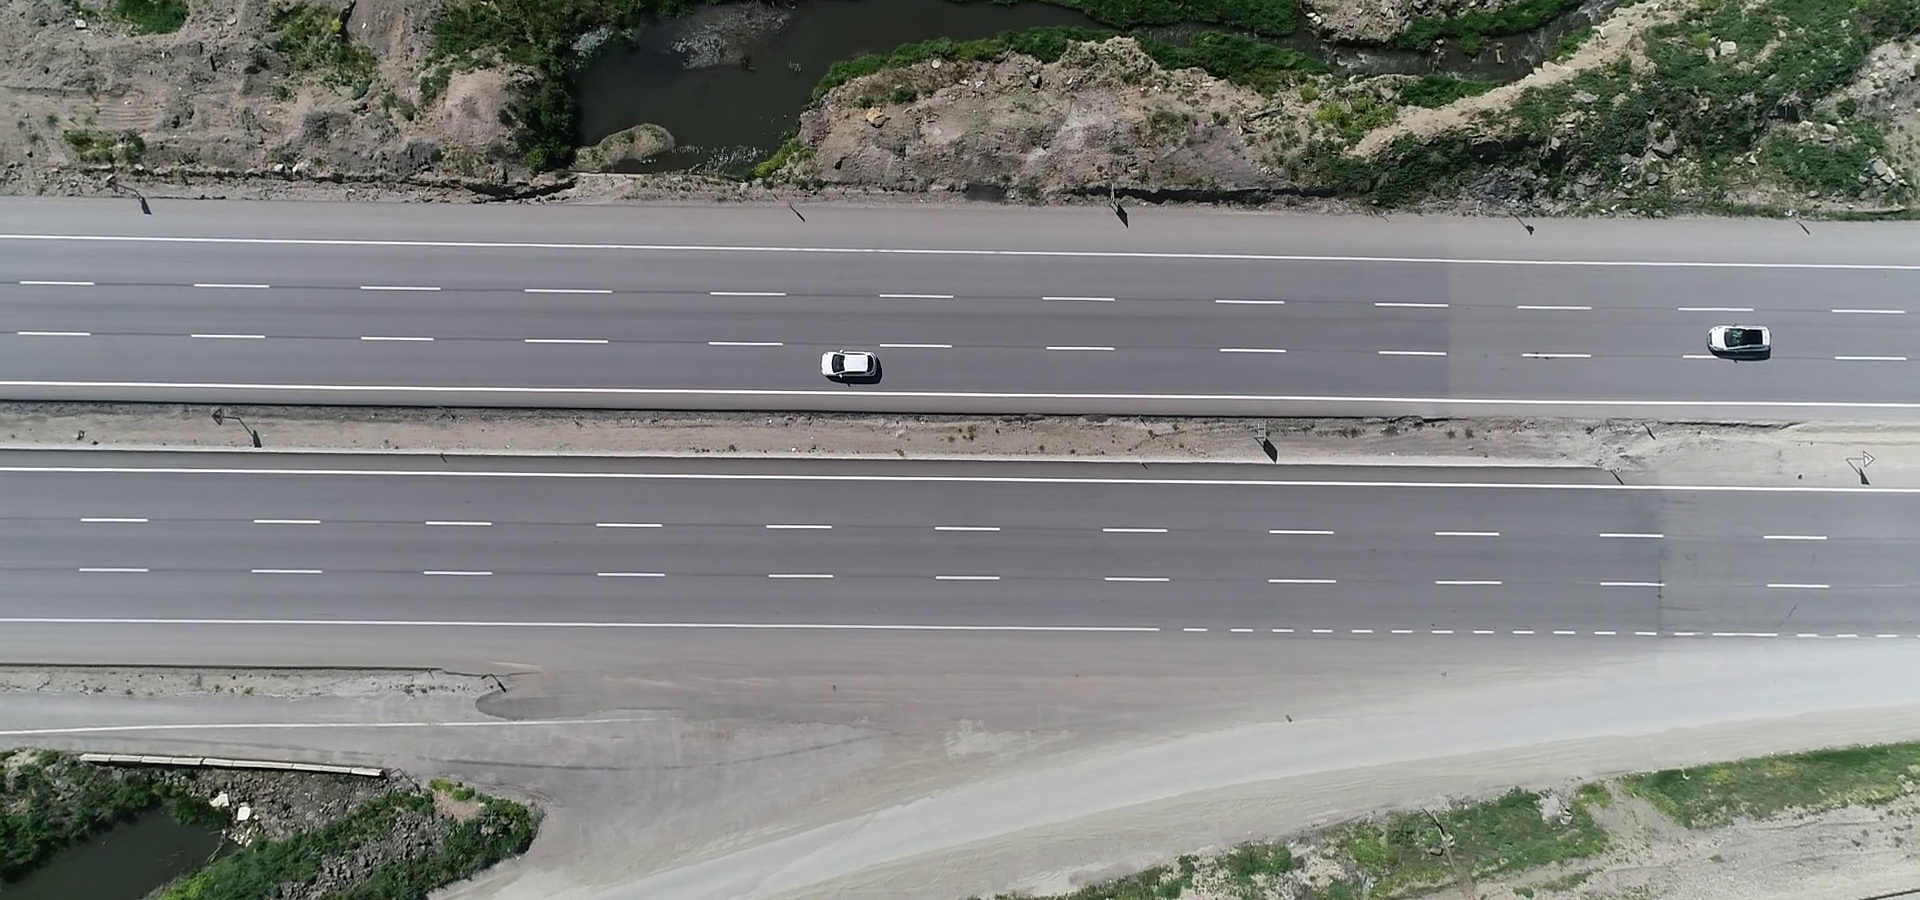arac: (1703, 320, 1778, 356), (812, 345, 882, 383)
